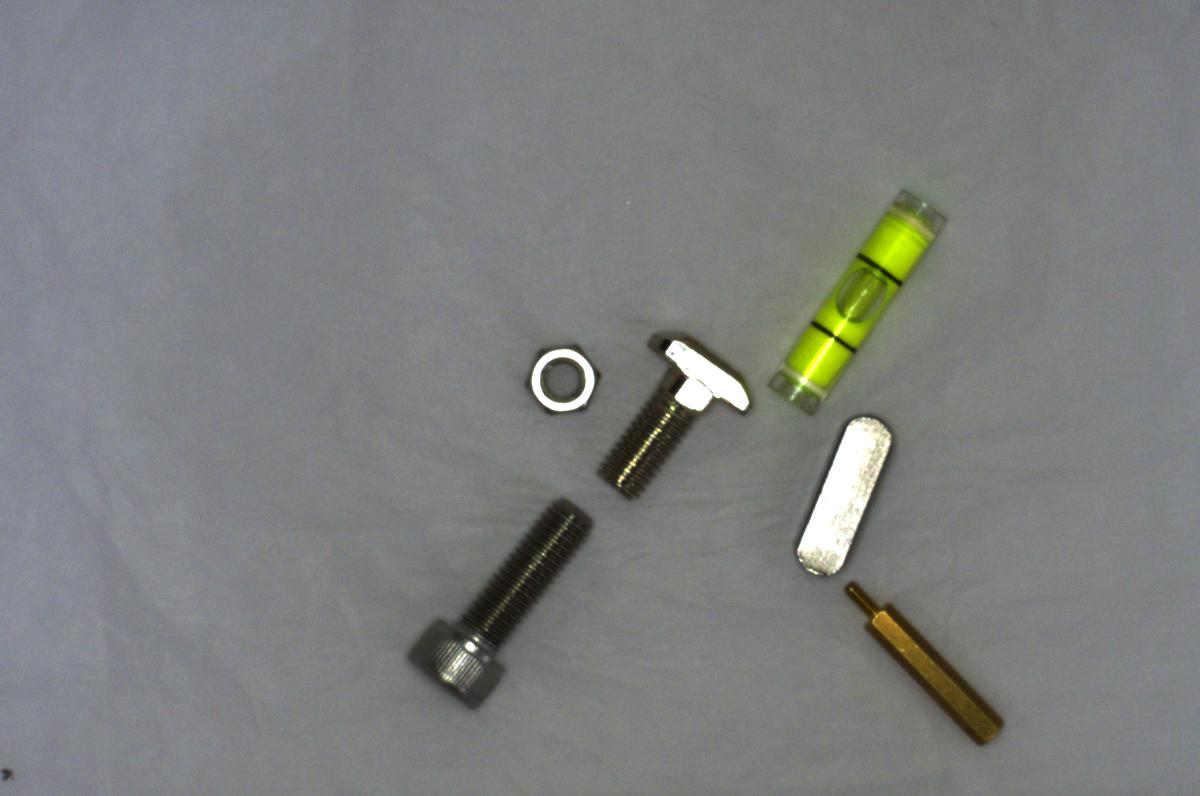Hexagon nut: (515, 340, 608, 418)
Hexagon pillar: (832, 572, 1008, 756)
Hexagon screw: (393, 481, 597, 724)
Horizontal bubble: (758, 172, 960, 418)
Keybar: (758, 401, 907, 585)
T-shaped screw: (591, 321, 764, 505)
